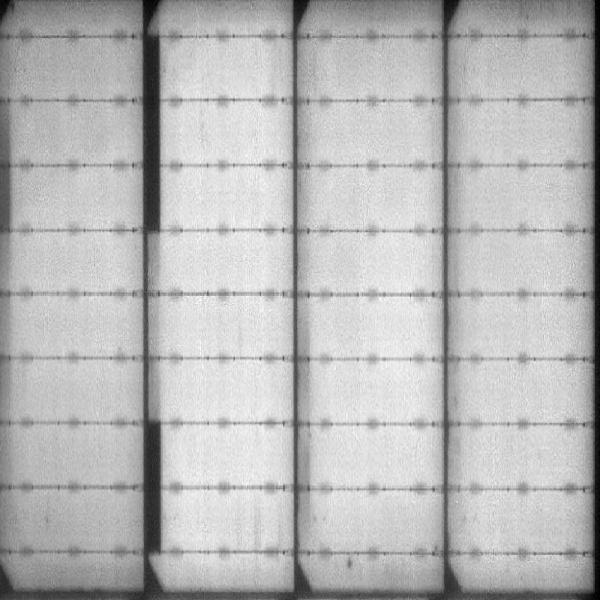black_border: (139, 35, 163, 237), (137, 413, 166, 551), (1, 99, 14, 238)
